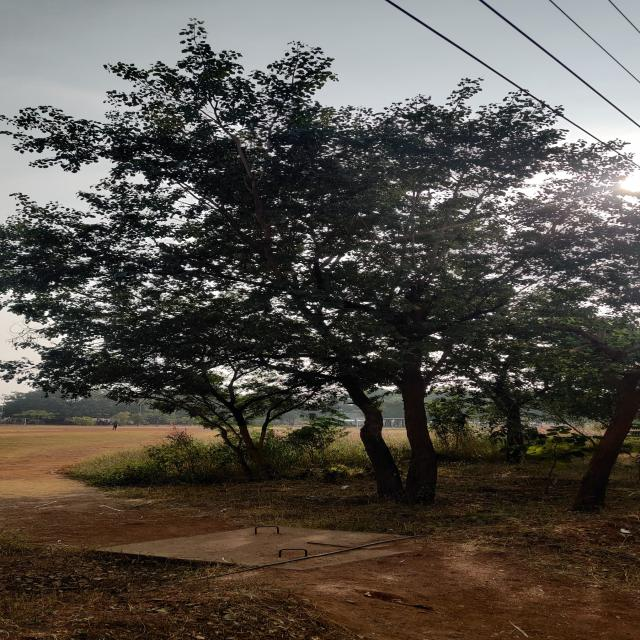Devakanchan tree: (28, 70, 575, 482)
